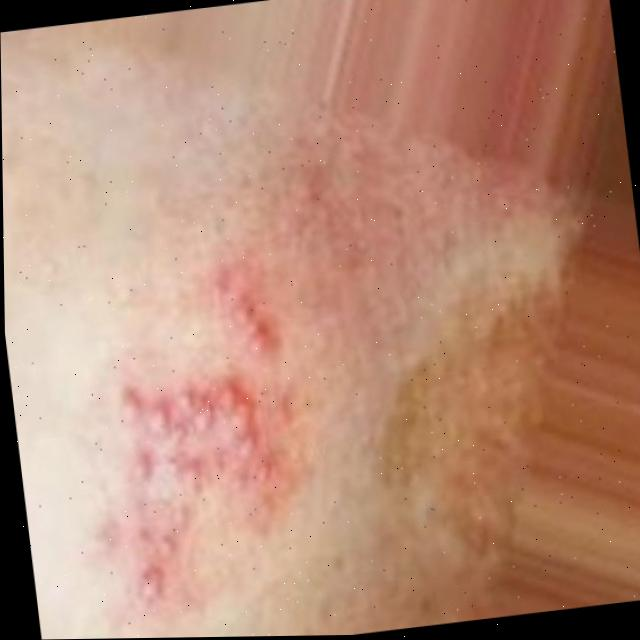Shingles: (83, 279, 318, 598)
